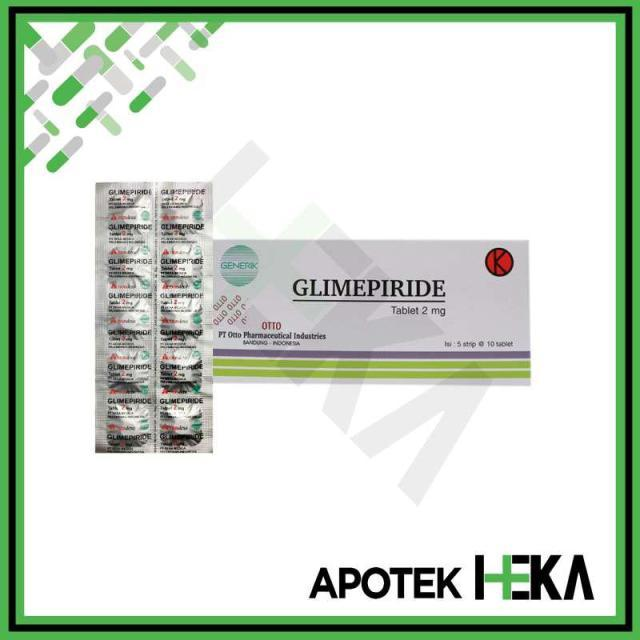drug-name: (290, 272, 450, 304)
